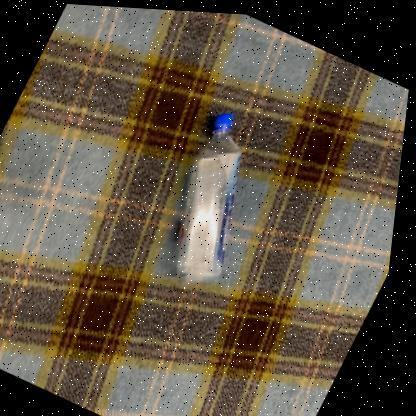Plastic: (181, 109, 243, 280)
